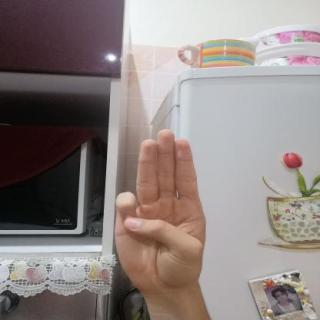THA: (100, 123, 222, 298)
